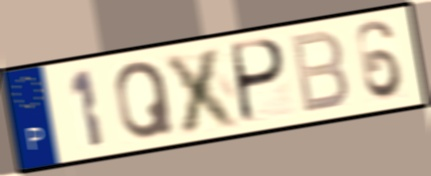1: (69, 67, 108, 149)
6: (355, 18, 404, 104)
B: (287, 27, 351, 117)
P: (231, 37, 289, 128)
Q: (113, 59, 177, 143)
X: (161, 43, 245, 136)
